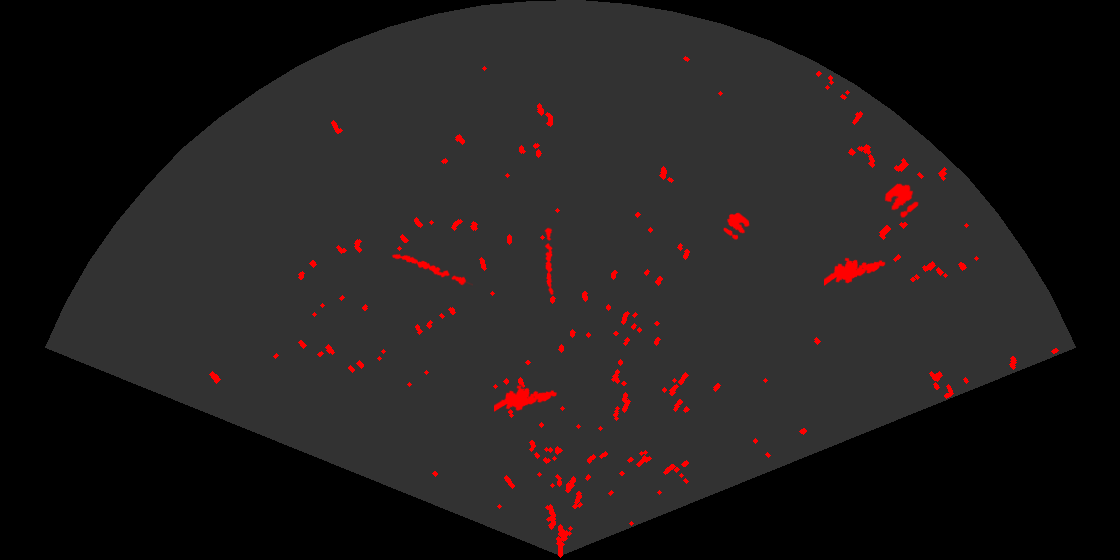ball: (883, 182, 920, 220), (722, 211, 751, 241)
chain: (390, 252, 473, 287), (543, 227, 555, 296)
frogman: (824, 256, 887, 287), (494, 384, 559, 413)
